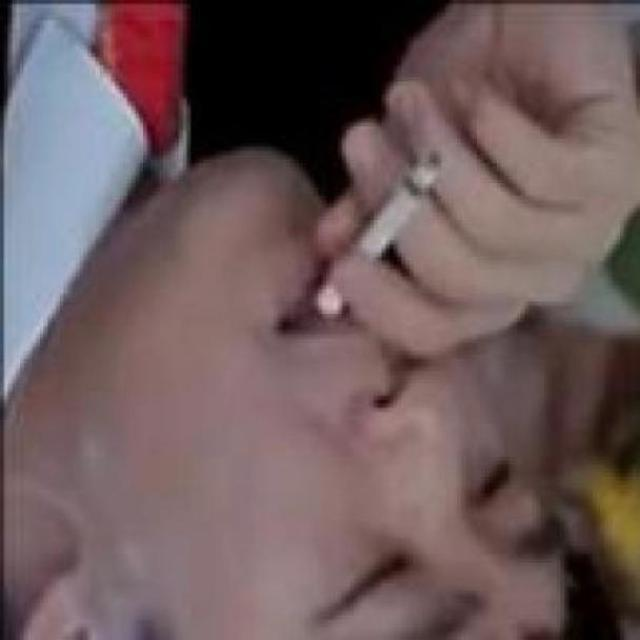rokok: (312, 142, 448, 322)
